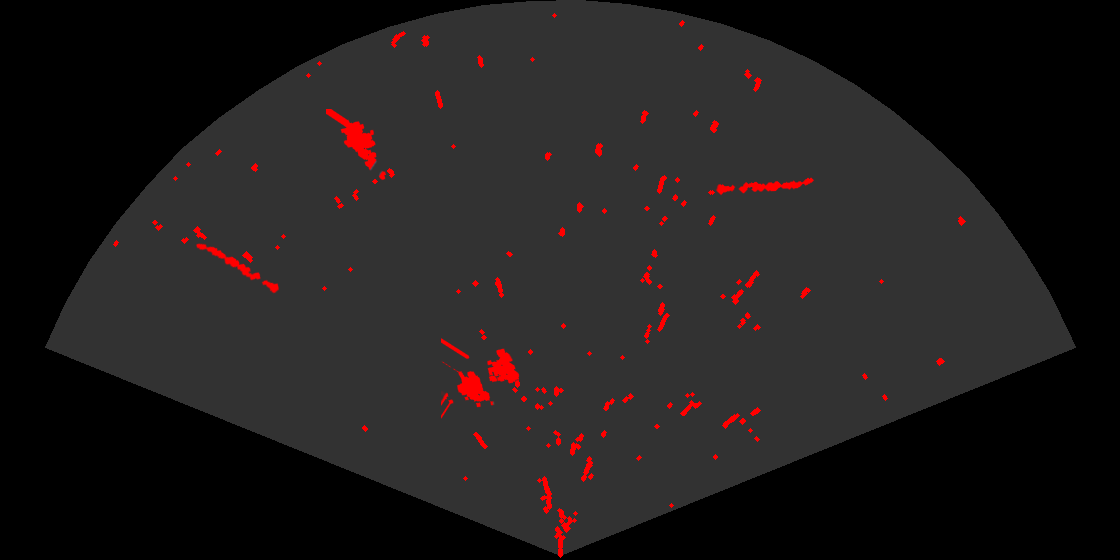cage: (441, 337, 521, 420)
chain: (194, 242, 281, 295), (714, 176, 815, 197)
frogman: (326, 109, 388, 182)
